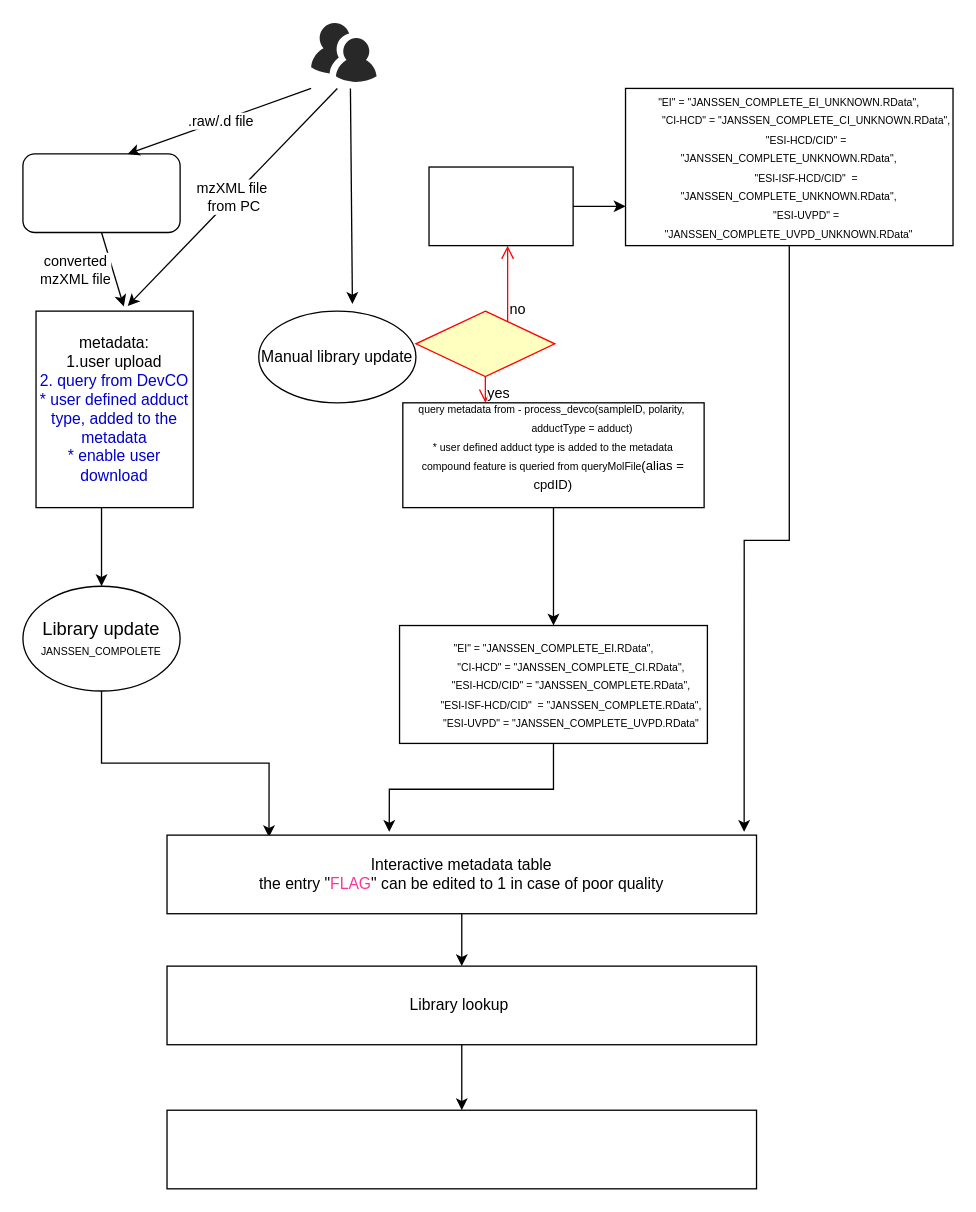
Image size: 976x1212. Some labels were removed from this diagram. Each missing label, with the centre of its shape:
"known compound" belongs at pixel 485 343.
"Library search on the consensus library" belongs at pixel 461 1149.
"MS conversion" belongs at pixel 101 193.
"take sample ID and other unknown metadata entries" belongs at pixel 500 206.
